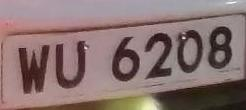0: (172, 26, 207, 78)
2: (141, 29, 176, 82)
6: (108, 30, 146, 85)
8: (204, 21, 239, 76)
U: (51, 33, 92, 95)
W: (14, 37, 52, 100)
